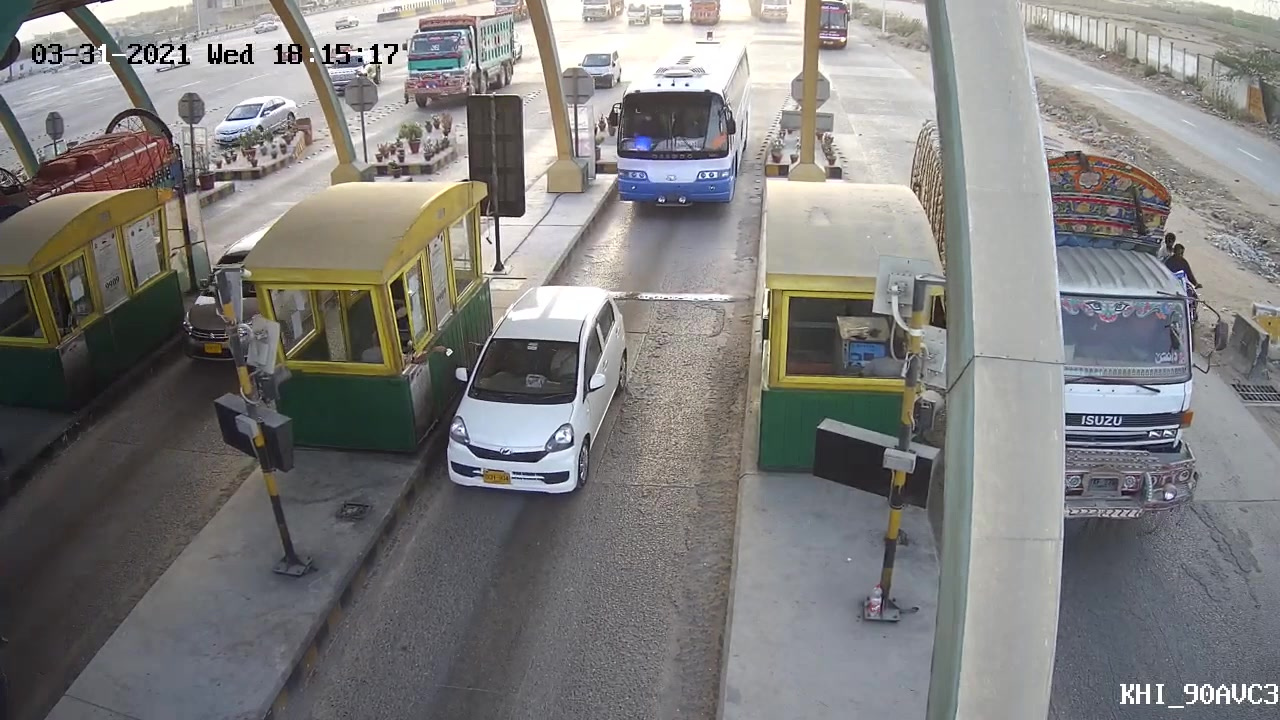F1: (440, 282, 631, 501)
F4: (607, 71, 744, 216)
